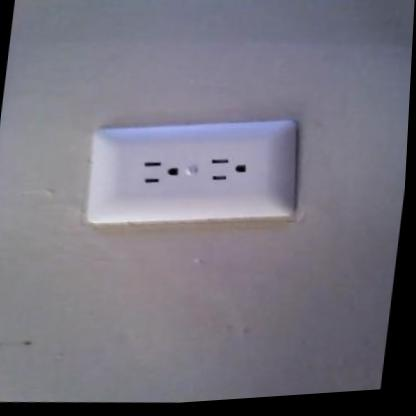OUTLET: (83, 107, 297, 235)
